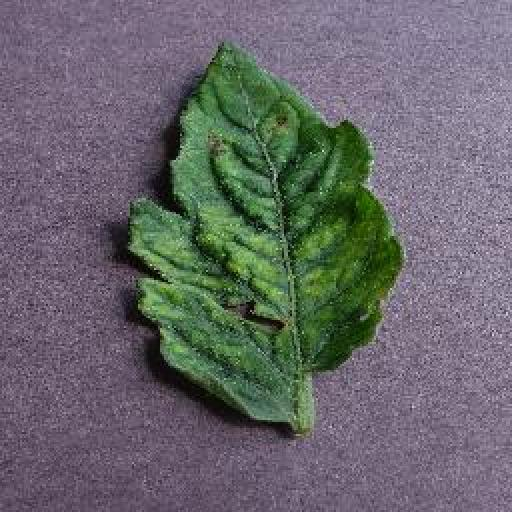Mosaic Virus: (130, 33, 408, 427)
